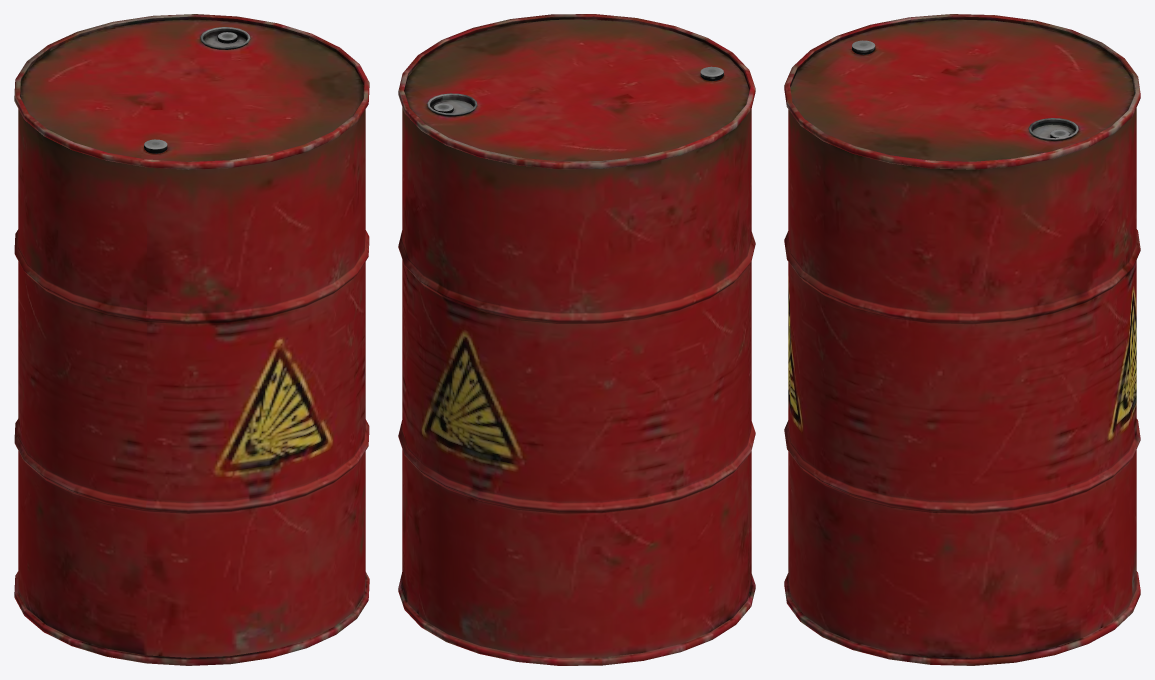
File: Barrel_01.glb
The picture shows the model from 3 angles, left to right: view 1: azimuth 30°, elevation 25°; view 2: azimuth 150°, elevation 25°; view 3: azimuth 270°, elevation 25°; orthographic projection.
Parts seen in each view (by area): view 1: Barrel_01; view 2: Barrel_01; view 3: Barrel_01.
Part boxes in pixels (box(x1,y1,x2,y2)): Barrel_01: box(14, 14, 369, 665); Barrel_01: box(398, 14, 755, 665); Barrel_01: box(784, 14, 1140, 665).
Size of the model in its own units: 0.5631 by 0.88 by 0.5631.
1 material, 1 textured.
